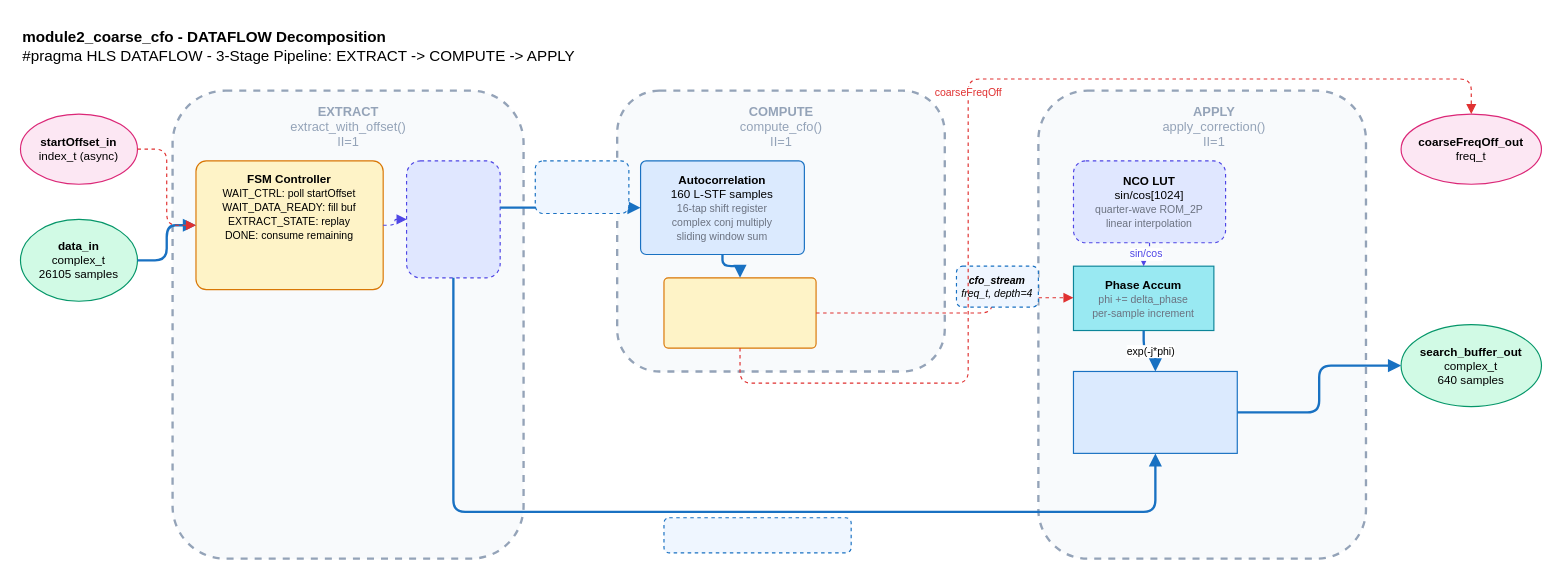
This 1562x579 diagram has some shape labels left out. The shapes that lost their labels are listed below. From the top down, each one's box as (x1, y1, x2, y2) in pixels, then its label:
(534, 160, 629, 214): lstf_stream 160 samples depth=160
(405, 160, 500, 278): circ_buf[2048] complex_t BRAM BUF_MASK=2047 write_idx & mask
(663, 277, 816, 348): CORDIC atan2 CFO angle -> freq_t scaling to rad/sample
(1072, 370, 1237, 453): Complex MUL data * exp(-j*phi) 4 DSP48 (I/Q rotation) 640 samples
(663, 517, 851, 553): passthrough_stream 640 samples, depth=680
